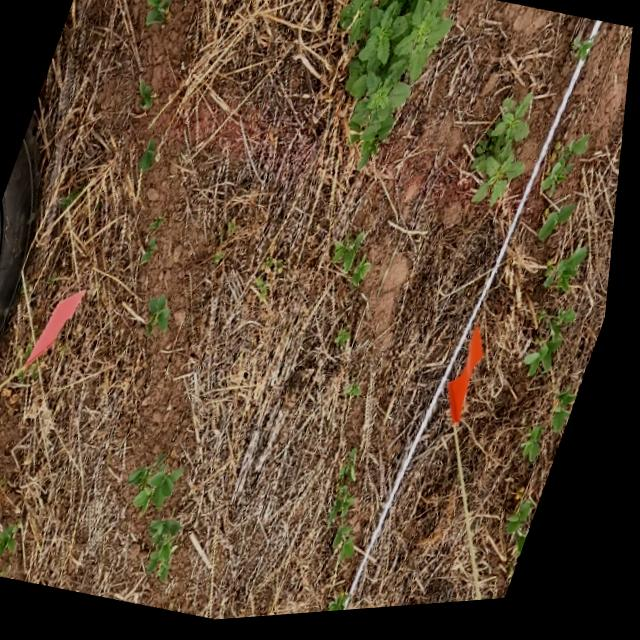caruru_weed: (340, 0, 451, 170), (473, 101, 535, 213), (337, 243, 376, 292), (217, 222, 246, 269), (258, 263, 285, 305)
soy_plant: (531, 318, 581, 385), (339, 455, 366, 566), (139, 465, 190, 514), (158, 521, 190, 582), (549, 257, 593, 301), (519, 508, 543, 564), (545, 213, 579, 249), (557, 399, 585, 441), (153, 297, 176, 335), (531, 433, 553, 471), (146, 0, 171, 28), (141, 144, 161, 174), (7, 526, 26, 556), (566, 145, 592, 161), (142, 83, 156, 112), (146, 241, 160, 265), (341, 599, 359, 617), (0, 483, 10, 504), (478, 337, 486, 362)
